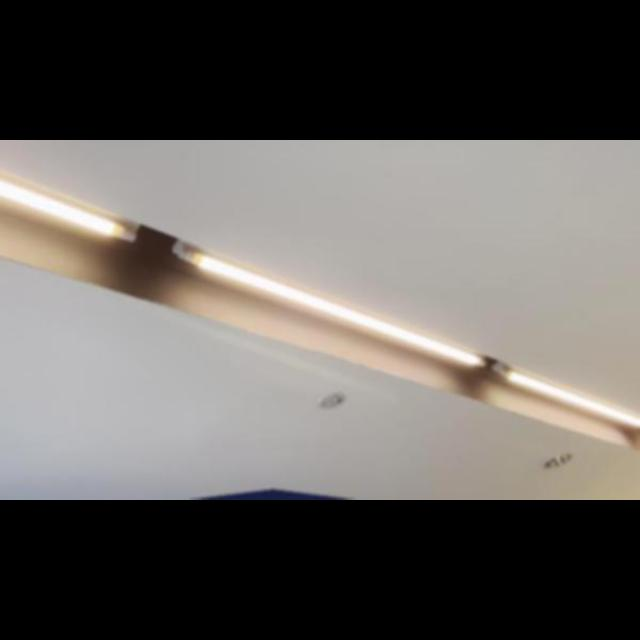Straight-Tube-Fluorescent-Lamp: (164, 236, 486, 376), (494, 347, 640, 439), (0, 163, 140, 255)
